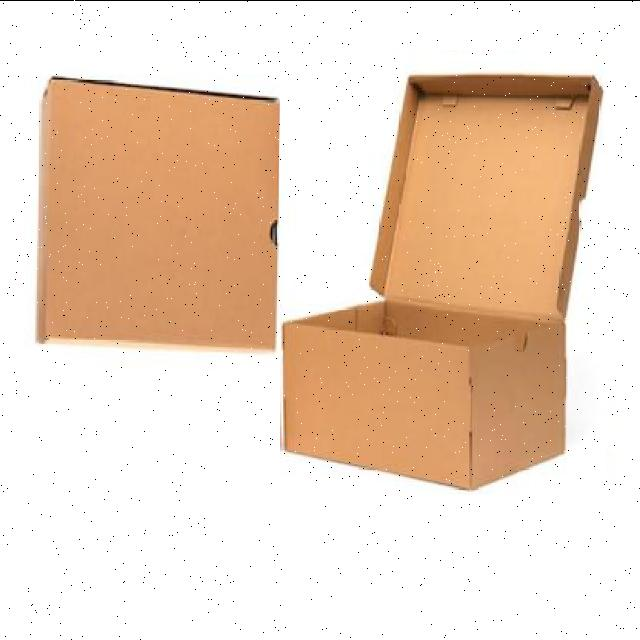defect: (280, 54, 606, 494)
normal: (29, 62, 283, 360)
